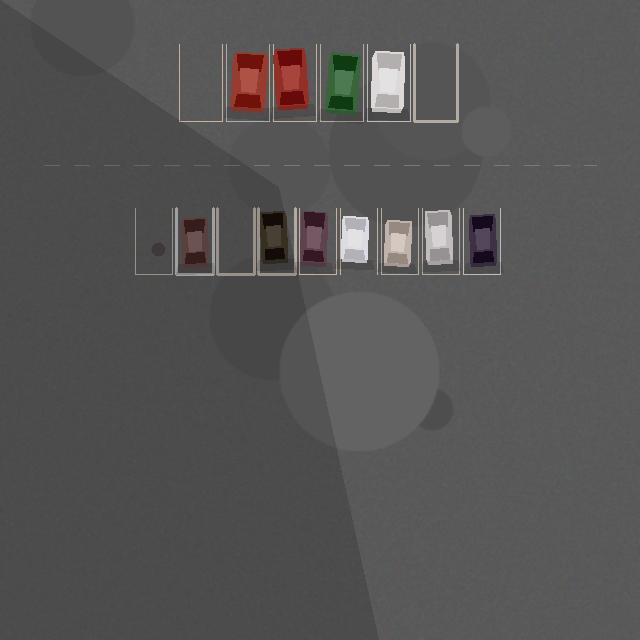space-empty: (179, 44, 222, 121), (414, 44, 457, 121), (135, 208, 172, 274), (217, 208, 254, 274)
space-occupied: (226, 44, 269, 121), (273, 44, 316, 121), (320, 44, 363, 121), (367, 44, 410, 121), (176, 208, 213, 274), (258, 208, 295, 274), (299, 208, 336, 274), (340, 208, 377, 274), (381, 208, 418, 274), (422, 208, 459, 274), (463, 208, 500, 274)
